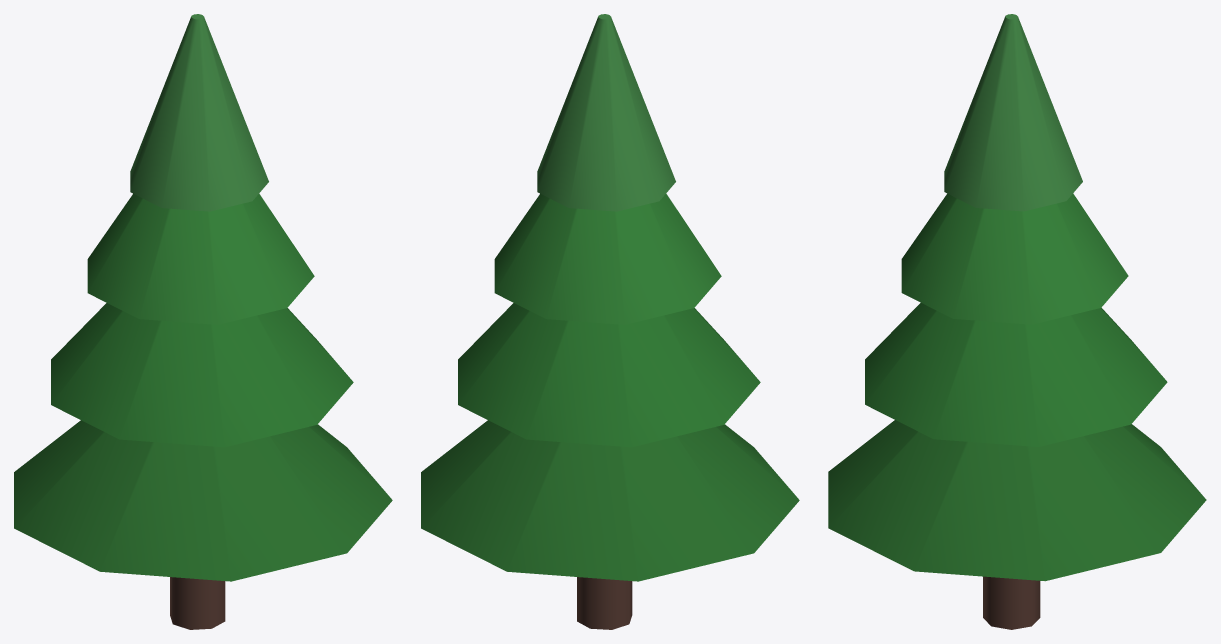
Rendered from tree_pine.fbx.
3 renders of one model, left to right at view 1: azimuth 30°, elevation 25°; view 2: azimuth 150°, elevation 25°; view 3: azimuth 270°, elevation 25°, orthographic.
Parts seen in each view (by area): view 1: Pine Tree.001; view 2: Pine Tree.001; view 3: Pine Tree.001.
Part boxes in pixels (x1,y1,x2,y2): Pine Tree.001: (14,14,392,629); Pine Tree.001: (421,14,799,629); Pine Tree.001: (828,14,1206,629).
Size of the model in its own units: 2.95 by 5.1 by 2.91.
